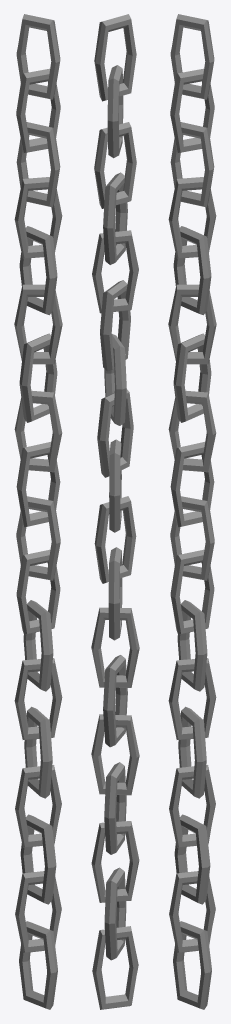
The model's file is IronChain.fbx.
3 renders of one model, left to right at view 1: azimuth 90°, elevation 25°; view 2: azimuth 150°, elevation 25°; view 3: azimuth 270°, elevation 25°, orthographic.
Visible parts, largest first — view 1: IronChain; view 2: IronChain; view 3: IronChain.
Part boxes in pixels (left/top/right/bottom): IronChain: left=14, top=14, right=62, bottom=1009; IronChain: left=91, top=14, right=139, bottom=1009; IronChain: left=168, top=14, right=216, bottom=1009.
Size of the model in its own units: 9.62 by 238 by 10.58.
Materials: 1 (1 with a texture image).
